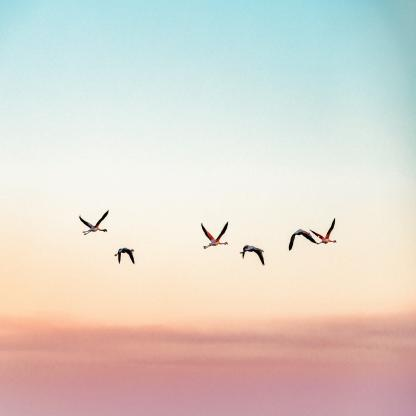bird: (201, 221, 228, 249), (79, 210, 109, 234), (310, 218, 336, 244), (289, 229, 318, 251), (240, 245, 265, 266), (114, 247, 136, 265)
